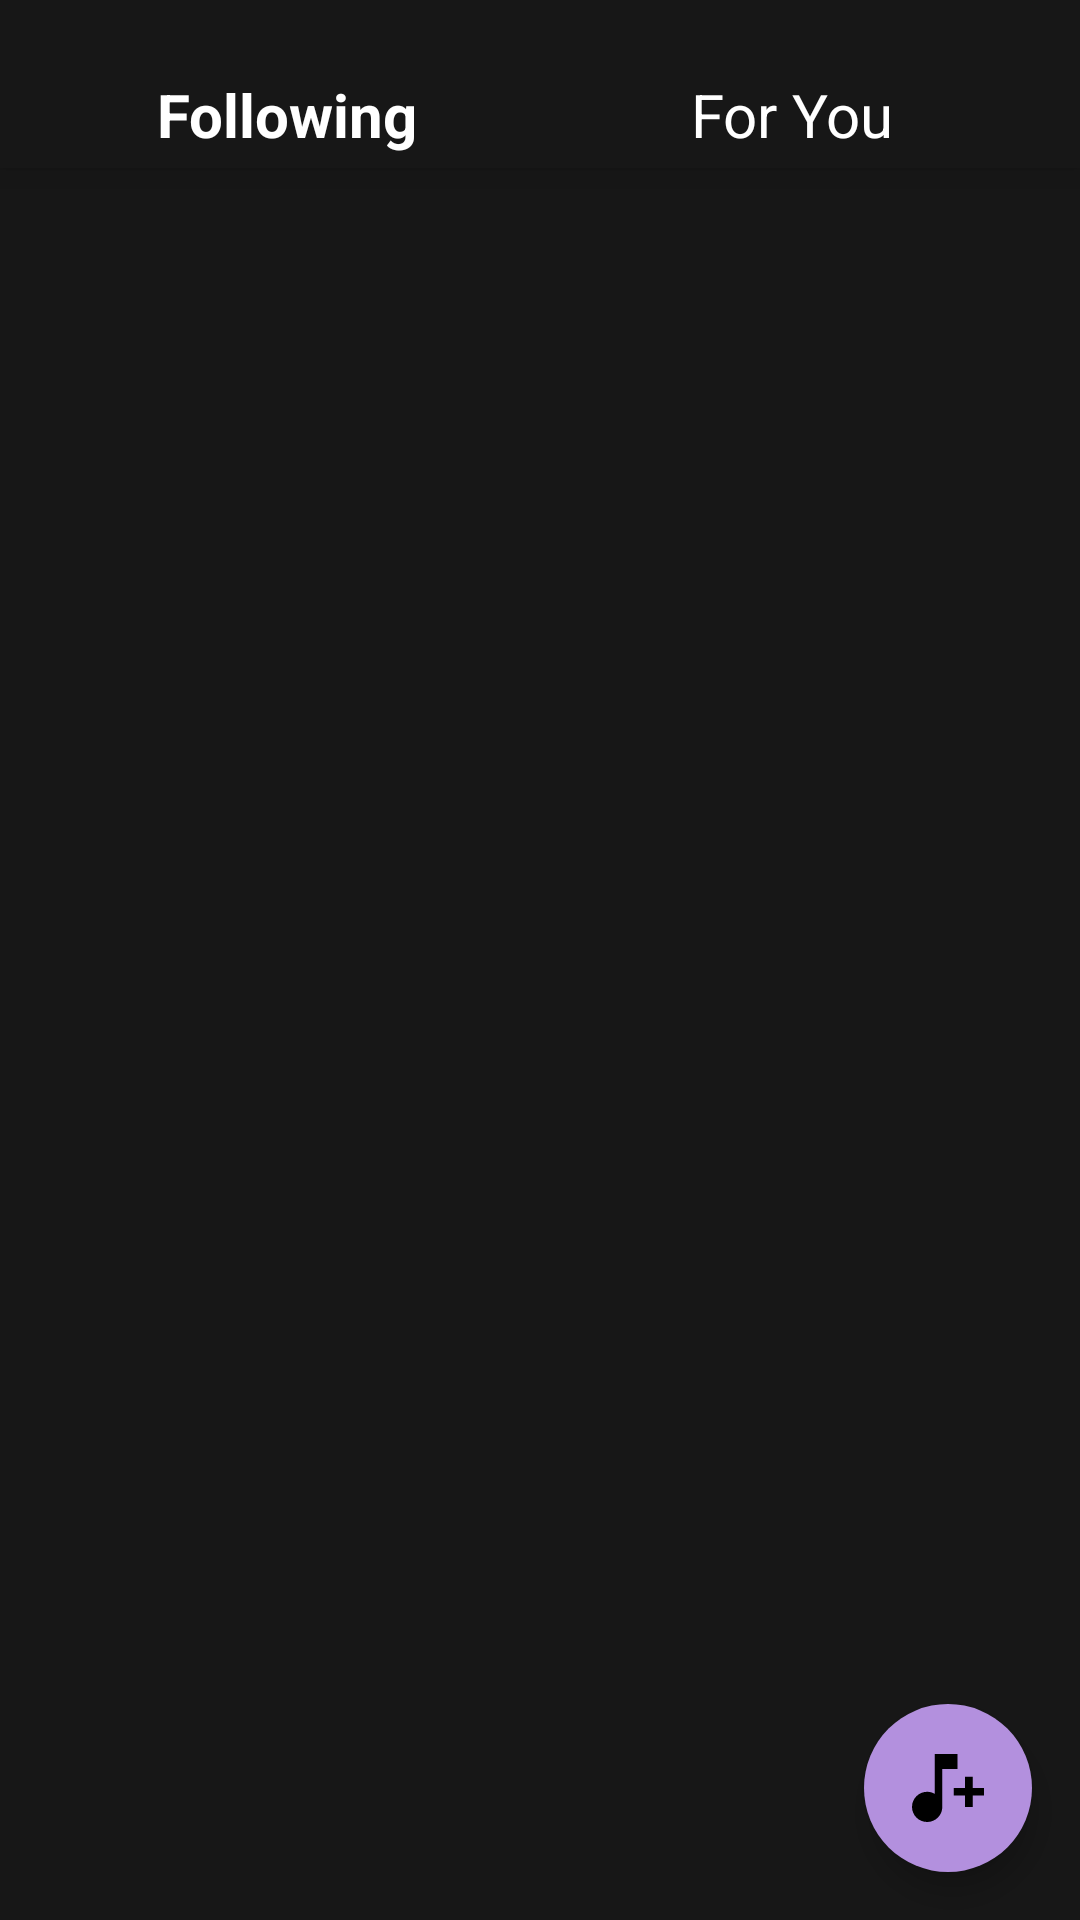

Icons on this 1080px×1920px Android screen, each with its box as (x1, y1, x2, y2):
post music note: (864, 1704, 1032, 1872)
